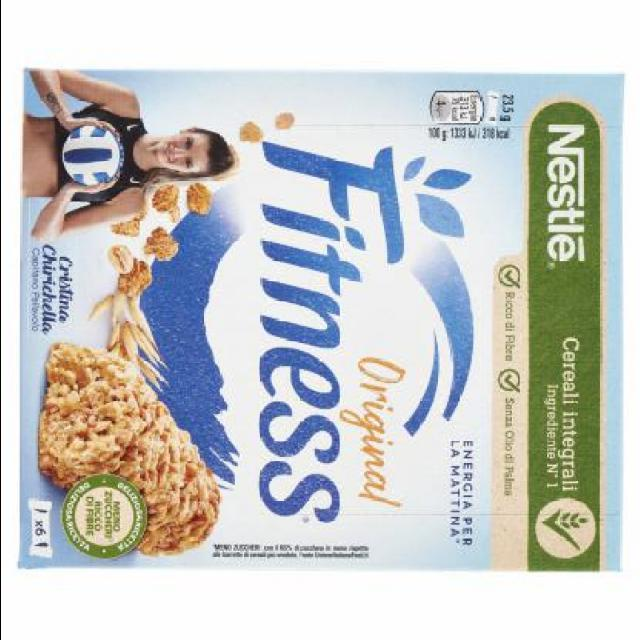Cereal bar: (16, 64, 622, 580)
